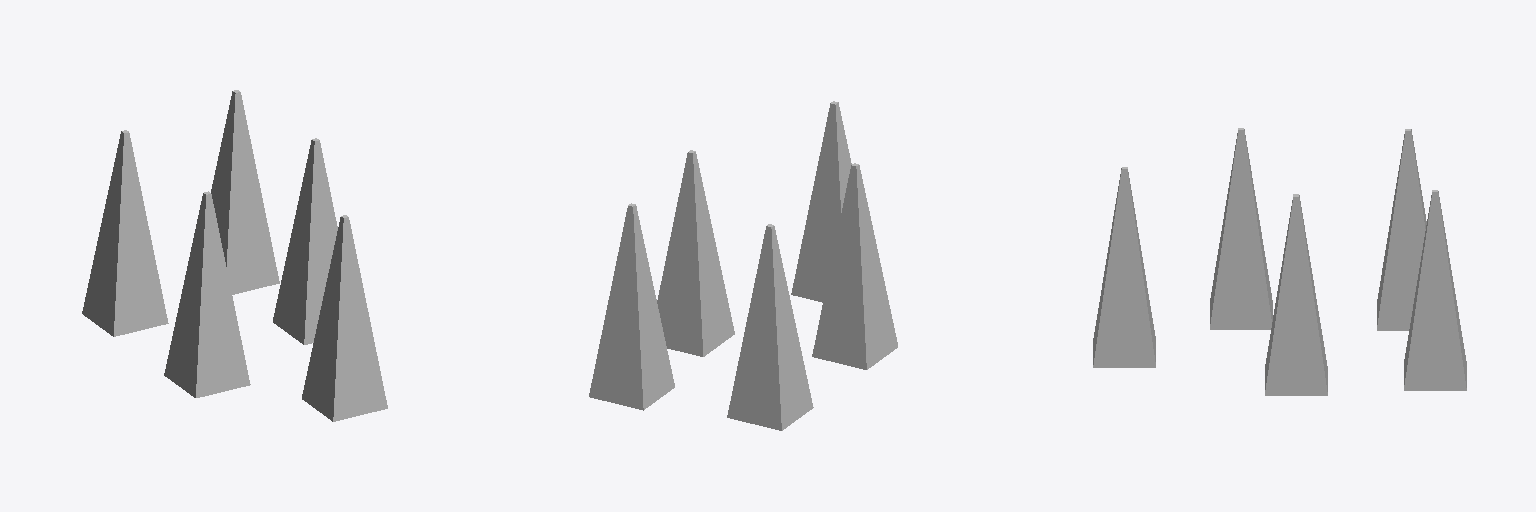
The model's file is Grass_3.obj.
3 views of the same model, side by side, from view 1: azimuth 30°, elevation 25°; view 2: azimuth 150°, elevation 25°; view 3: azimuth 270°, elevation 25° (orthographic).
Parts seen in each view (by area): view 1: Cube.000_Cube.005, Cube.002_Cube.009, Cube.004_Cube.002, Cube.006_Cube.000, Cube.003_Cube.010; view 2: Cube.002_Cube.009, Cube.006_Cube.000, Cube.004_Cube.002, Cube.003_Cube.010, Cube.000_Cube.005; view 3: Cube.004_Cube.002, Cube.003_Cube.010, Cube.006_Cube.000, Cube.000_Cube.005, Cube.002_Cube.009.
Part boxes in pixels (x1,y1,x2,y2): Cube.000_Cube.005: (302, 215, 387, 421); Cube.002_Cube.009: (82, 130, 168, 336); Cube.004_Cube.002: (164, 191, 250, 397); Cube.006_Cube.000: (211, 90, 279, 294); Cube.003_Cube.010: (273, 138, 337, 344); Cube.002_Cube.009: (727, 224, 813, 430); Cube.006_Cube.000: (589, 203, 674, 410); Cube.004_Cube.002: (812, 163, 897, 369); Cube.003_Cube.010: (657, 150, 734, 356); Cube.000_Cube.005: (791, 101, 851, 302); Cube.004_Cube.002: (1210, 128, 1272, 329); Cube.003_Cube.010: (1265, 194, 1327, 395); Cube.006_Cube.000: (1404, 190, 1466, 390); Cube.000_Cube.005: (1093, 167, 1155, 367); Cube.002_Cube.009: (1377, 129, 1426, 330).
Size of the model in its own units: 0.3503 by 0.3284 by 0.5946.